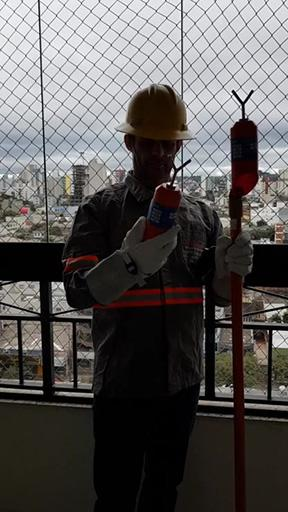Detector_Tensao_Contato: (143, 154, 192, 242), (229, 87, 259, 196)
Vara_Manobra: (228, 194, 248, 512)
